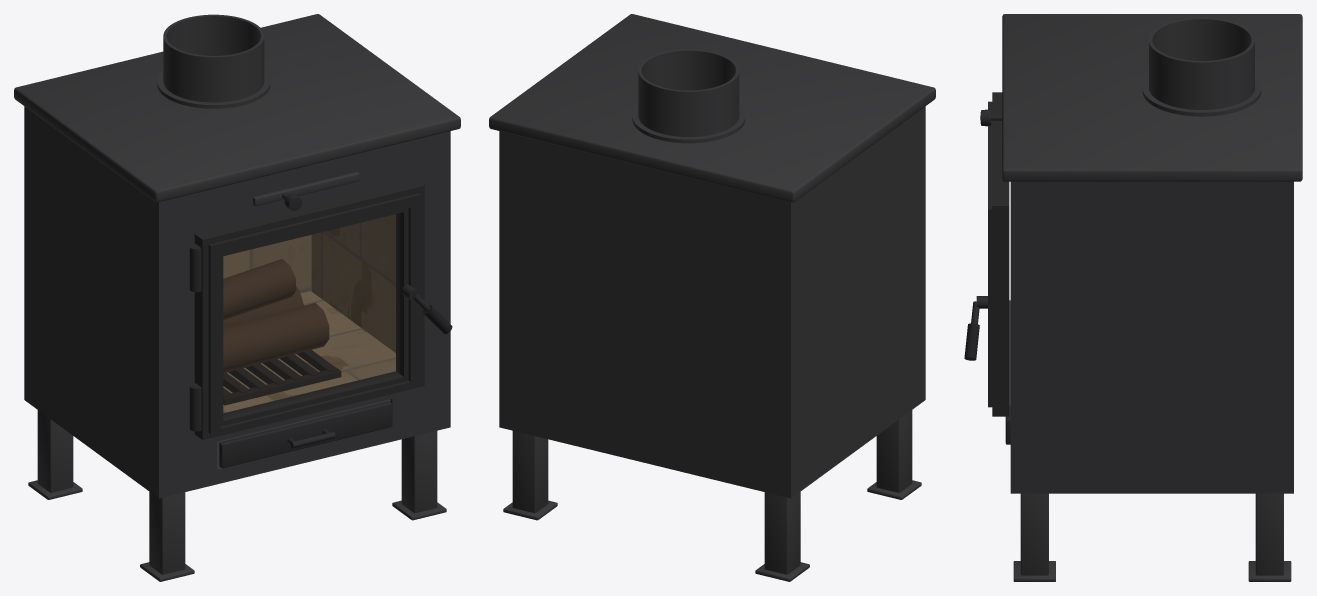
Rendered from wood-burning-stove-with-glass-door-and-flue-collar.glb.
3 renders of one model, left to right at view 1: azimuth 30°, elevation 25°; view 2: azimuth 150°, elevation 25°; view 3: azimuth 270°, elevation 25°, orthographic. The views are drawn at different scales.
Parts seen in each view (by area): view 1: Stove body, legs and flue collar, Door glass, Door, hinges and handle lever, Firebrick lining, Split logs, Ash pan front and air controls, Grate; view 2: Stove body, legs and flue collar; view 3: Stove body, legs and flue collar, Door, hinges and handle lever, Handle grip.
Part boxes in pixels (bbox=[...]): Stove body, legs and flue collar: bbox=[14, 14, 460, 581]; Door glass: bbox=[223, 213, 399, 416]; Door, hinges and handle lever: bbox=[189, 180, 430, 439]; Firebrick lining: bbox=[223, 214, 395, 412]; Split logs: bbox=[223, 259, 329, 372]; Ash pan front and air controls: bbox=[219, 193, 391, 468]; Grate: bbox=[223, 349, 341, 405]; Stove body, legs and flue collar: bbox=[489, 14, 935, 581]; Stove body, legs and flue collar: bbox=[1002, 14, 1302, 581]; Door, hinges and handle lever: bbox=[971, 92, 1009, 416]; Handle grip: bbox=[964, 323, 979, 360].
Bounding box in the file's own units: 0.524 × 0.73 × 0.4774.
Materials: 8 (8 with a texture image).
